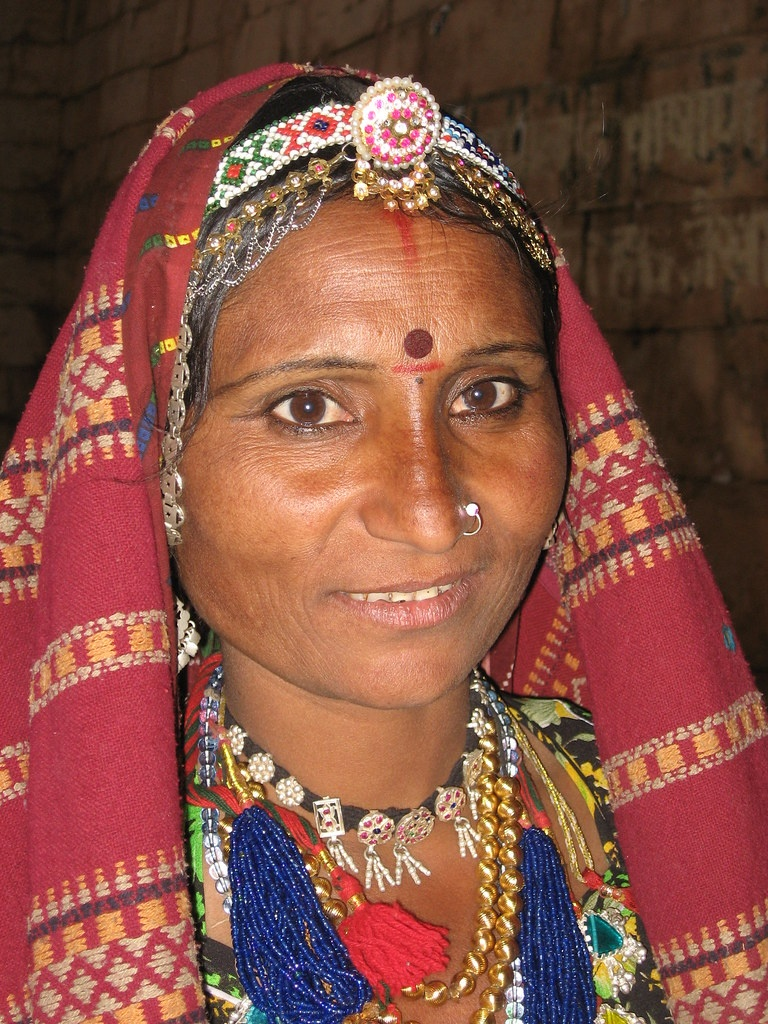without_mask: (143, 189, 578, 701)
